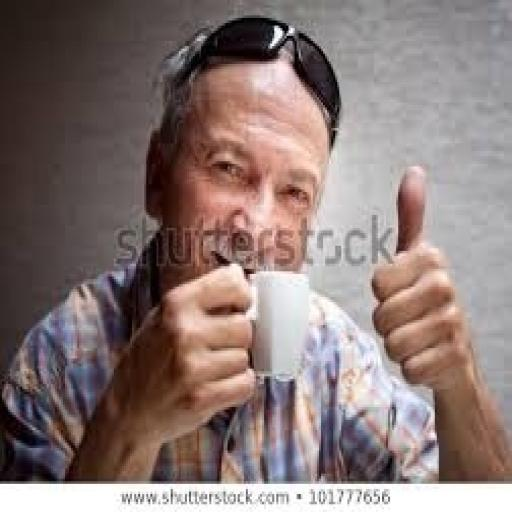drinking: (246, 269, 309, 381)
